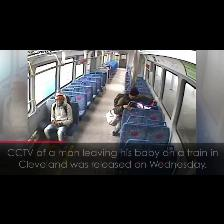person: (113, 88, 156, 135), (1, 75, 27, 141), (44, 93, 72, 141)
